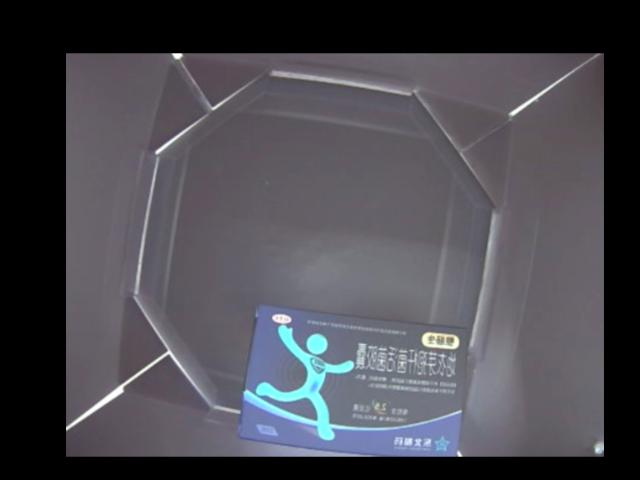Medicine: (236, 303, 466, 456)
